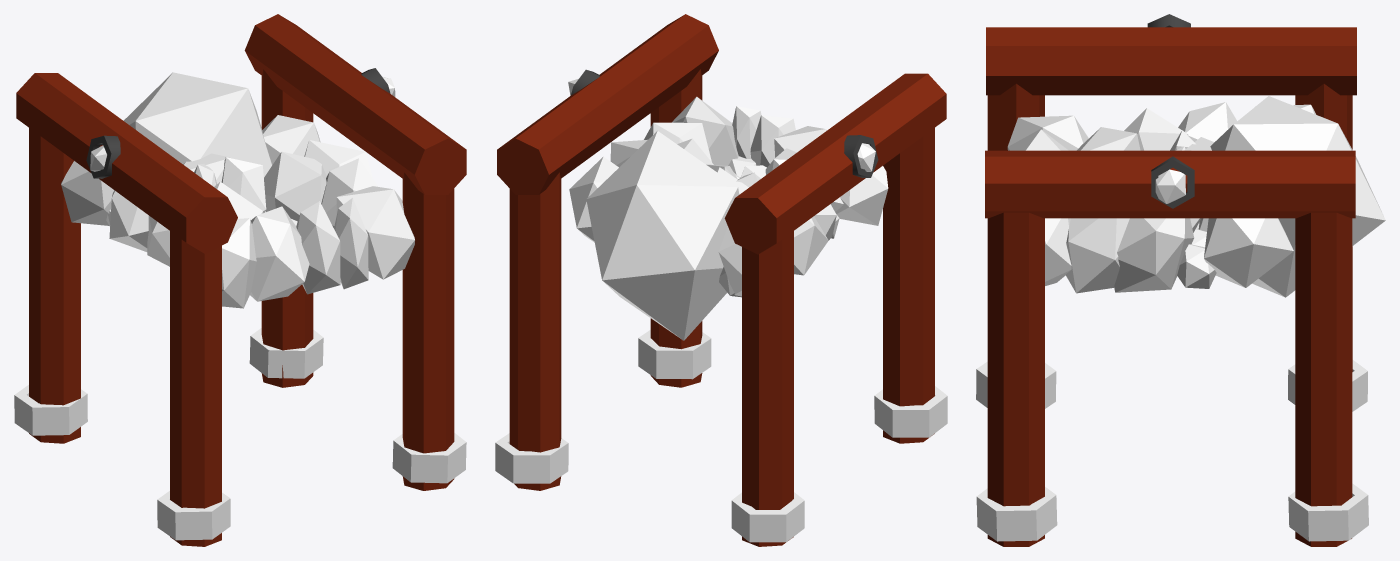
The model's file is puerta.fbx.
The picture shows the model from 3 angles, left to right: view 1: azimuth 30°, elevation 25°; view 2: azimuth 150°, elevation 25°; view 3: azimuth 270°, elevation 25°; orthographic projection. The views are drawn at different scales.
Parts seen in each view (by area): view 1: madera, gemas, aros, soporte_gema; view 2: madera, gemas, aros, soporte_gema; view 3: madera, gemas, aros, soporte_gema.
Part boxes in pixels (x1,y1,x2,y2): madera: (16, 14, 466, 546); gemas: (61, 72, 414, 308); aros: (14, 77, 466, 540); soporte_gema: (86, 68, 390, 178); madera: (497, 14, 946, 546); gemas: (569, 96, 888, 340); aros: (495, 78, 947, 542); soporte_gema: (571, 69, 878, 177); madera: (985, 27, 1356, 546); gemas: (1007, 96, 1385, 297); aros: (976, 169, 1368, 541); soporte_gema: (1147, 14, 1194, 208).
Size of the model in its own units: 303 by 339 by 326.
